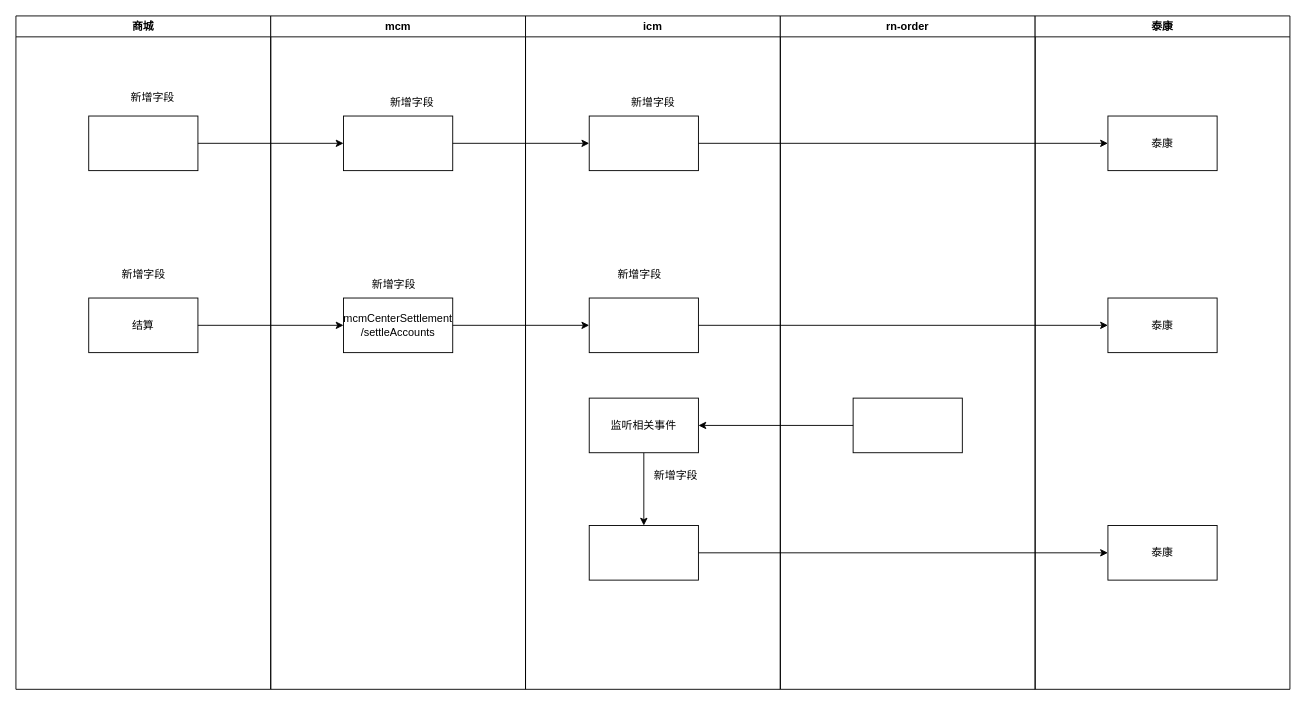
The diagram is 1306 pixels wide and 705 high, and some of its shapes have lost their labels. Here are the shapes that lost their labels. From the top down, the centre of each, then its label:
the point at 143,143: 试算
the point at 398,143: settlementTrial
the point at 643,143: /tkBusinessHandler/ settlementTrial/v1
the point at 643,325: /tkBusinessHandler /syncOrder/v1
the point at 907,425: 问诊订单相关事件
the point at 643,552: 业务处理
